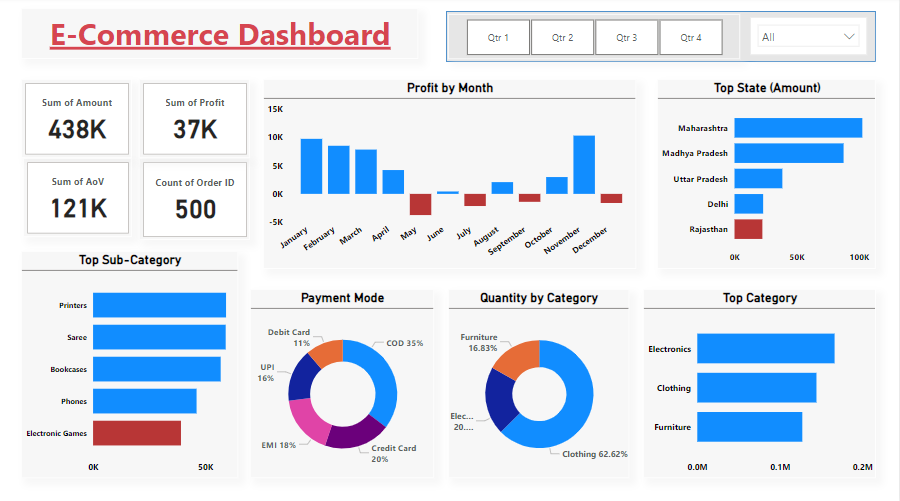

Layout of this report page (visuals, bound fields, positions):
{"tool":"powerbi","page":{"name":"Page 1","canvas":[1280,720],"ordinal":0},"visuals":[{"type":"textbox","box":[35.4,15.6,562.7,72.3],"z":0},{"type":"columnChart","title":"Profit by Month","fields":{"Category":["Orders.Order Date.Variation.Date Hierarchy.Month"],"Y":["Sum(Details.Profit)"]},"box":[378.4,116.2,528.7,269.3],"z":1000},{"type":"barChart","title":"Top Category","fields":{"Category":["Details.Category"],"Y":["Sum(Details.Amount)"]},"box":[917,413.9,330.2,267.9],"z":2000},{"type":"barChart","title":"Top Sub-Category","fields":{"Y":["Sum(Details.Amount)"],"Category":["Details.Sub-Category"]},"box":[35.4,360,307.6,321.7],"z":3000},{"type":"donutChart","title":"Quantity by Category","fields":{"Category":["Details.Category"],"Y":["Sum(Details.Quantity)"]},"box":[640.6,413.9,256.5,267.9],"z":4000},{"type":"donutChart","title":"Payment Mode","fields":{"Category":["Details.PaymentMode"],"Y":["Sum(Details.Amount)"]},"box":[360,413.9,260.8,267.9],"z":5000},{"type":"cardVisual","fields":{"Data":["Sum(Details.Amount)"]},"box":[35.4,116.2,157.3,112],"z":6000},{"type":"cardVisual","fields":{"Data":["CountNonNull(Orders.Order ID)"]},"box":[202.7,228.2,157.3,116.2],"z":7000},{"type":"cardVisual","fields":{"Data":["Sum(Details.Profit)"]},"box":[202.7,116.2,157.3,112],"z":8000},{"type":"cardVisual","fields":{"Data":["Sum(Details.AoV)"]},"box":[38.3,228.2,154.5,112],"z":9000},{"type":"clusteredBarChart","title":"Top State (Amount)","fields":{"Category":["Orders.State"],"Y":["Sum(Details.Amount)"]},"box":[936.9,116.2,310.4,269.3],"z":10000},{"type":"shape","box":[637.8,19.8,609.4,72.3],"z":12000},{"type":"slicer","fields":{"Values":["Orders.Order Date.Variation.Date Hierarchy.Quarter"]},"box":[640.6,24.1,413.9,63.8],"z":13000},{"type":"slicer","fields":{"Values":["Orders.State"]},"box":[1068.7,28.3,165.8,53.9],"z":13001}]}

Visuals, with their boxes in screenshot pixels (x1, y1, x2, y2), scaled from the page's 1280x720 canvas onto the 900x501 screenshot:
textbox: l=25, t=11, r=421, b=61
"Profit by Month" columnChart: l=266, t=81, r=638, b=268
"Top Category" barChart: l=645, t=288, r=877, b=474
"Top Sub-Category" barChart: l=25, t=250, r=241, b=474
"Quantity by Category" donutChart: l=450, t=288, r=631, b=474
"Payment Mode" donutChart: l=253, t=288, r=436, b=474
cardVisual - Sum(Details.Amount): l=25, t=81, r=135, b=159
cardVisual - CountNonNull(Orders.Order ID): l=143, t=159, r=253, b=240
cardVisual - Sum(Details.Profit): l=143, t=81, r=253, b=159
cardVisual - Sum(Details.AoV): l=27, t=159, r=136, b=237
"Top State (Amount)" clusteredBarChart: l=659, t=81, r=877, b=268
shape: l=448, t=14, r=877, b=64
slicer - Orders.Order Date.Variation.Date Hierarchy.Quarter: l=450, t=17, r=741, b=61
slicer - Orders.State: l=751, t=20, r=868, b=57
